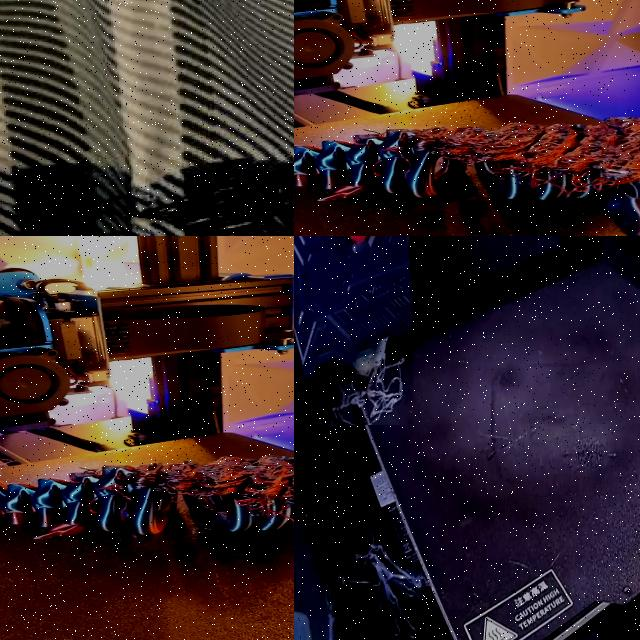spaghetti: (0, 180, 294, 236), (424, 119, 640, 191), (324, 534, 432, 640), (140, 457, 294, 529), (336, 345, 413, 425)
